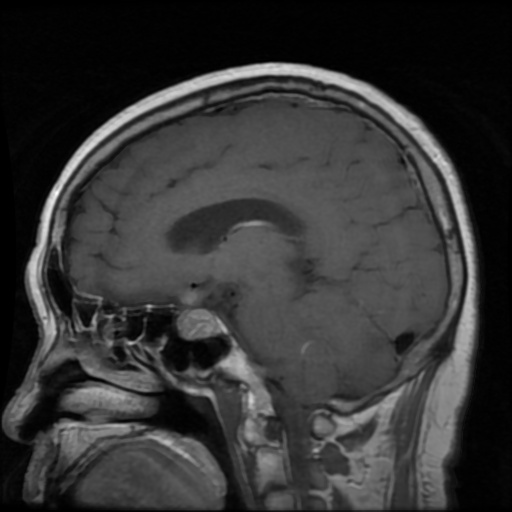pituitary: (177, 308, 216, 339)
